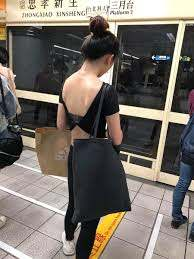people: (56, 15, 123, 259), (171, 79, 194, 241), (1, 46, 21, 228)
